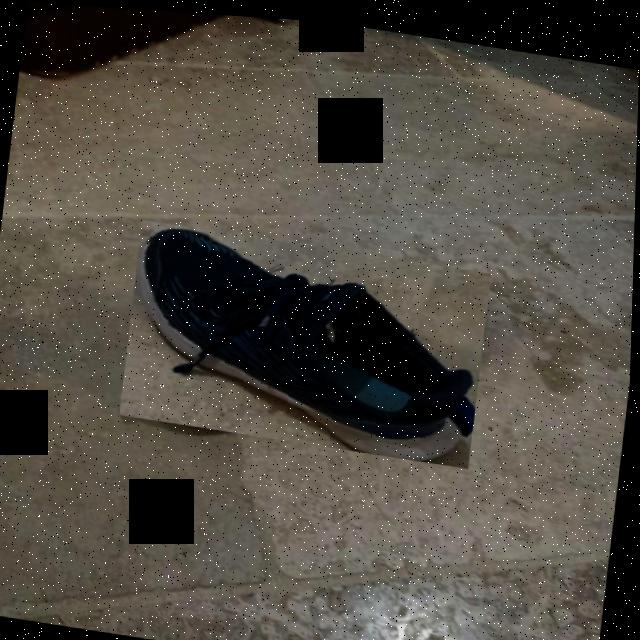shoe: (120, 216, 493, 463)
